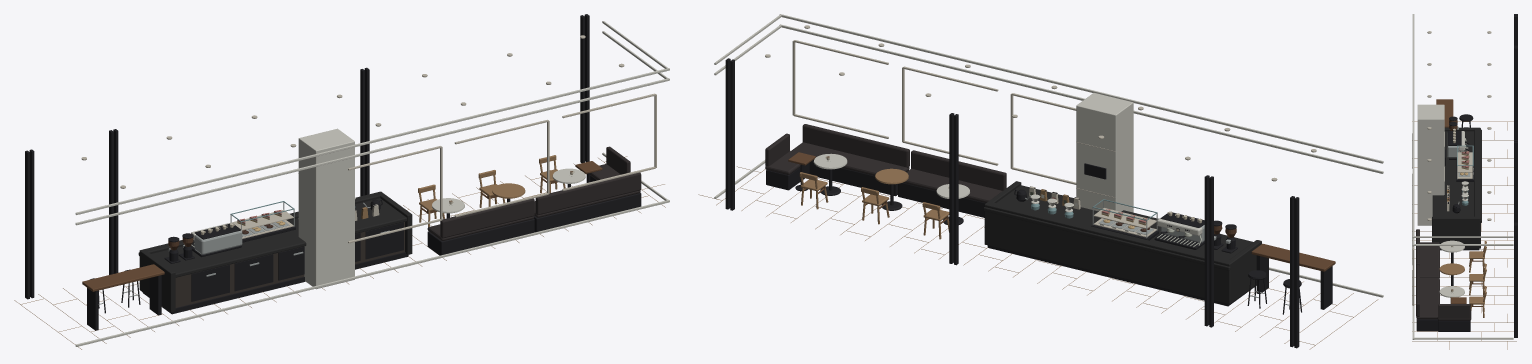
3 views of the same model, side by side, from view 1: azimuth 30°, elevation 25°; view 2: azimuth 150°, elevation 25°; view 3: azimuth 270°, elevation 25° (orthographic). The views are drawn at different scales.
Visible parts, largest first — view 1: BeanBrothersFP203; view 2: BeanBrothersFP203; view 3: BeanBrothersFP203.
Part boxes in pixels (left/top/right/bottom): BeanBrothersFP203: left=14, top=14, right=669, bottom=349; BeanBrothersFP203: left=698, top=14, right=1383, bottom=349; BeanBrothersFP203: left=1412, top=14, right=1517, bottom=349.
Bounding box in the file's own units: 15.12 × 3.46 × 2.94.
